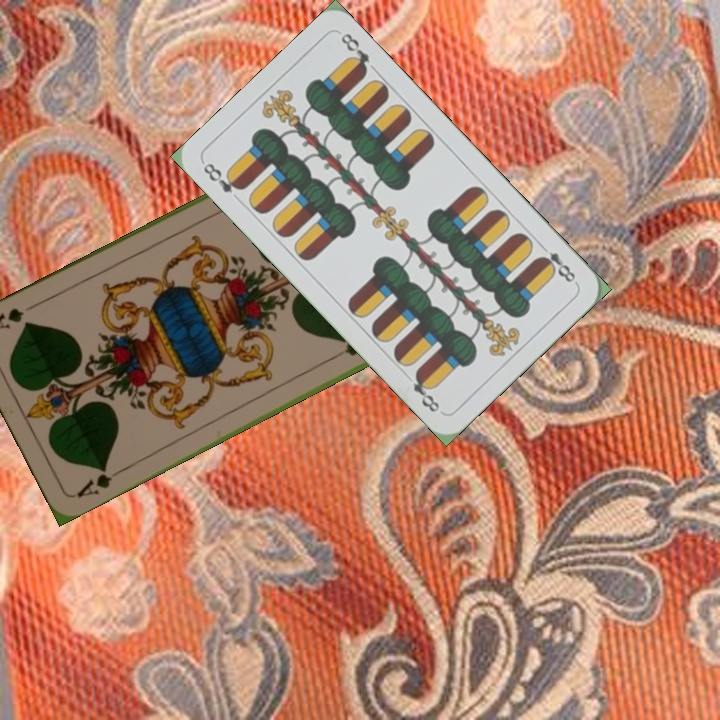E8: (534, 239, 578, 285), (199, 159, 247, 196)
GA: (72, 462, 126, 500)
